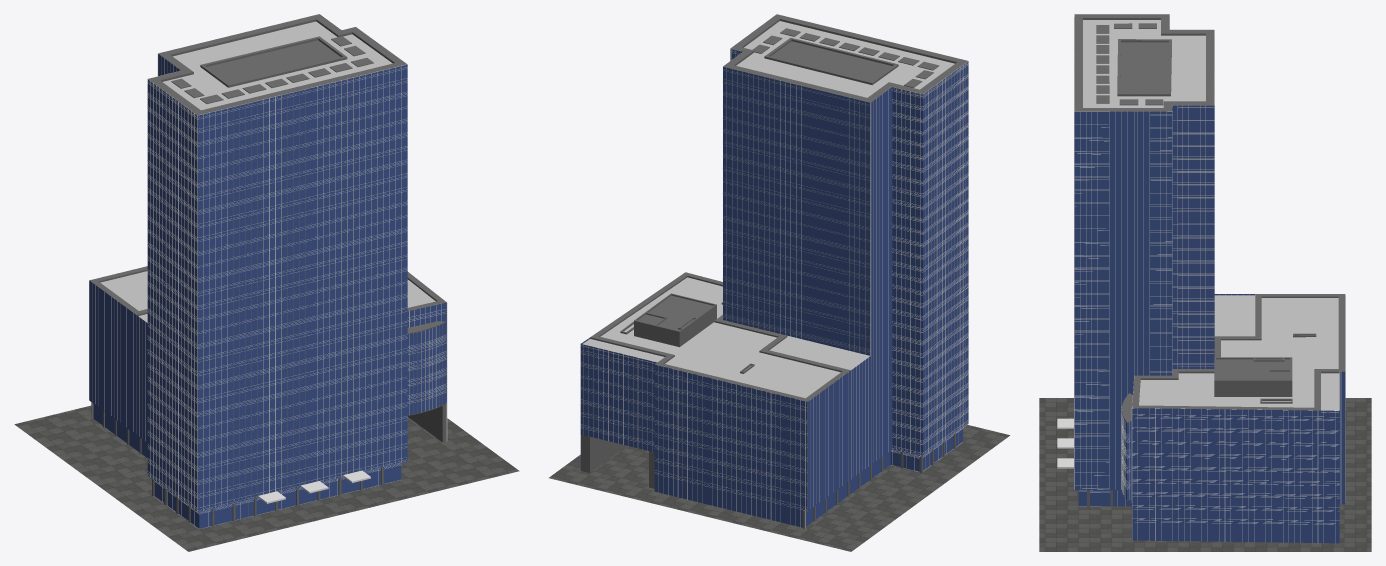
File: 商业楼3.glb
3 renders of one model, left to right at view 1: azimuth 30°, elevation 25°; view 2: azimuth 150°, elevation 25°; view 3: azimuth 270°, elevation 25°, orthographic. The views are drawn at different scales.
Parts seen in each view (by area): view 1: Rectangle15-玻璃, Rectangle16, ground, Line01, 楼板_1, 楼板, Rectangle07; view 2: Rectangle15-玻璃, Rectangle16, Line01, ground, 楼板, 楼板_1; view 3: Rectangle15-玻璃, Rectangle16, Line01, ground, 楼板, 楼板_1, Rectangle07.
Part boxes in pixels (box(x1,y1,x2,y2)): Rectangle15-玻璃: box(89, 54, 446, 528); Rectangle16: box(89, 14, 447, 529); ground: box(14, 405, 519, 551); Line01: box(89, 14, 446, 526); 楼板_1: box(163, 21, 392, 512); 楼板: box(100, 271, 435, 322); Rectangle07: box(258, 470, 370, 503); Rectangle15-玻璃: box(580, 49, 968, 527); Rectangle16: box(581, 14, 968, 528); Line01: box(581, 14, 967, 528); ground: box(549, 425, 1009, 551); 楼板: box(580, 277, 868, 398); 楼板_1: box(736, 21, 968, 457); Rectangle15-玻璃: box(1074, 105, 1345, 543); Rectangle16: box(1074, 14, 1345, 542); Line01: box(1074, 14, 1346, 506); ground: box(1039, 398, 1371, 551); 楼板: box(1139, 295, 1339, 412); 楼板_1: box(1083, 20, 1214, 366); Rectangle07: box(1057, 418, 1073, 468).
Size of the model in its own units: 102 by 122 by 92.98.
13 materials, 2 textured.
